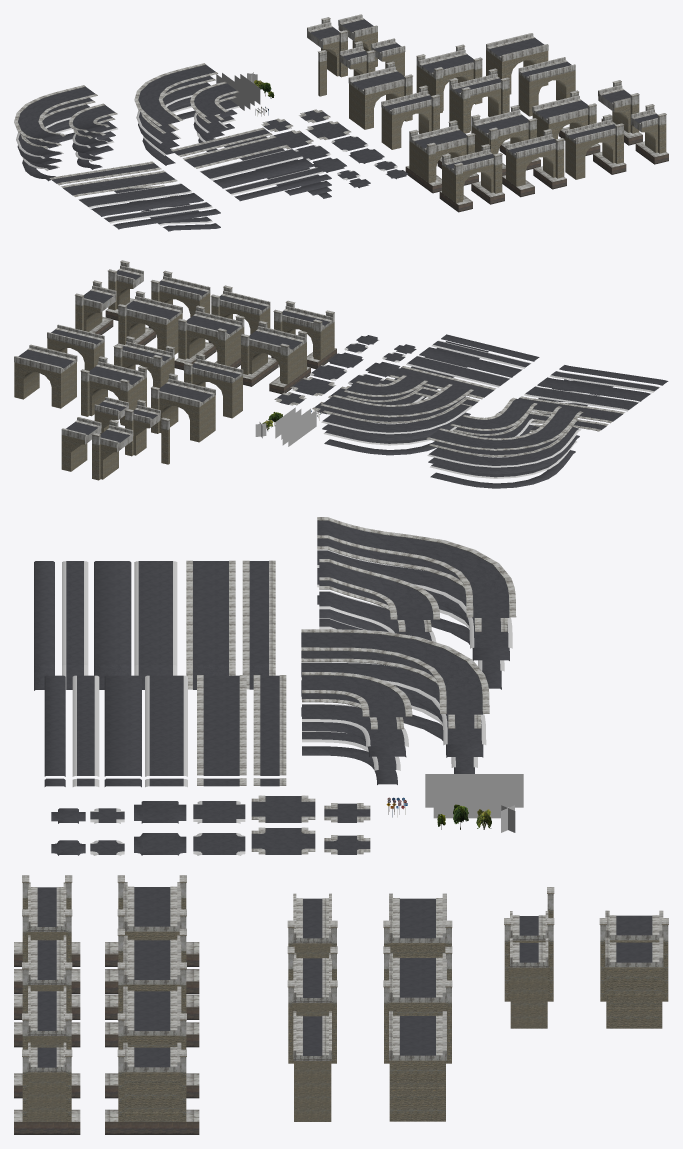
The model's file is Roads.dae.
3 renders of one model, top to bottom at view 1: azimuth 30°, elevation 25°; view 2: azimuth 150°, elevation 25°; view 3: azimuth 270°, elevation 25°, orthographic. The views are drawn at different scales.
Parts seen in each view (by area): view 1: Bridge.001, Bridge.003, Bridge.002, Bridge.005, Bridge.009, Bridge.010, Bridge.008, Bridge.011, Bridge.006, Bridge.012, Road.046, Bridge.004 (+39 smaller); view 2: Bridge.002, Bridge.006, Bridge.013, Bridge.009, Bridge.004, Bridge.011, Road.058, Bridge.001, Road.046, Bridge.008, Bridge.010, Road.056 (+39 smaller); view 3: Bridge, Road.058, Road.046, Bridge.013, Bridge.006, Road.062, Bridge.002, Bridge.017, Bridge.007, Bridge.011, Road.064, Bridge.004 (+43 smaller).
Part boxes in pixels (bbox=[...]): Bridge.001: bbox=[439, 144, 504, 212]; Bridge.003: bbox=[502, 129, 566, 197]; Bridge.002: bbox=[405, 120, 478, 193]; Bridge.005: bbox=[565, 114, 626, 179]; Bridge.009: bbox=[348, 61, 412, 129]; Bridge.010: bbox=[449, 68, 509, 133]; Bridge.008: bbox=[381, 85, 440, 149]; Bridge.011: bbox=[416, 44, 482, 112]; Bridge.006: bbox=[471, 105, 540, 175]; Bridge.012: bbox=[518, 57, 575, 116]; Road.046: bbox=[134, 63, 217, 126]; Bridge.004: bbox=[532, 90, 600, 155]; Bridge.002: bbox=[240, 321, 310, 394]; Bridge.006: bbox=[174, 305, 244, 370]; Bridge.013: bbox=[14, 344, 77, 408]; Bridge.009: bbox=[151, 373, 215, 442]; Bridge.004: bbox=[116, 291, 182, 354]; Bridge.011: bbox=[80, 356, 147, 425]; Road.058: bbox=[426, 406, 583, 450]; Bridge.001: bbox=[271, 300, 336, 368]; Road.046: bbox=[320, 384, 473, 417]; Bridge.008: bbox=[184, 353, 243, 418]; Bridge.010: bbox=[113, 336, 174, 387]; Road.056: bbox=[427, 427, 581, 467]; Bridge: bbox=[105, 1042, 199, 1134]; Road.058: bbox=[317, 517, 516, 617]; Road.046: bbox=[301, 629, 489, 714]; Bridge.013: bbox=[389, 1011, 446, 1121]; Bridge.006: bbox=[105, 928, 199, 1047]; Road.062: bbox=[186, 560, 235, 664]; Bridge.002: bbox=[105, 875, 199, 994]; Bridge.017: bbox=[605, 937, 663, 1028]; Bridge.007: bbox=[14, 1042, 80, 1134]; Bridge.011: bbox=[383, 946, 452, 1063]; Road.064: bbox=[134, 561, 177, 665]; Bridge.004: bbox=[105, 986, 199, 1098].
Size of the model in its own units: 124 by 73.54 by 19.19.
